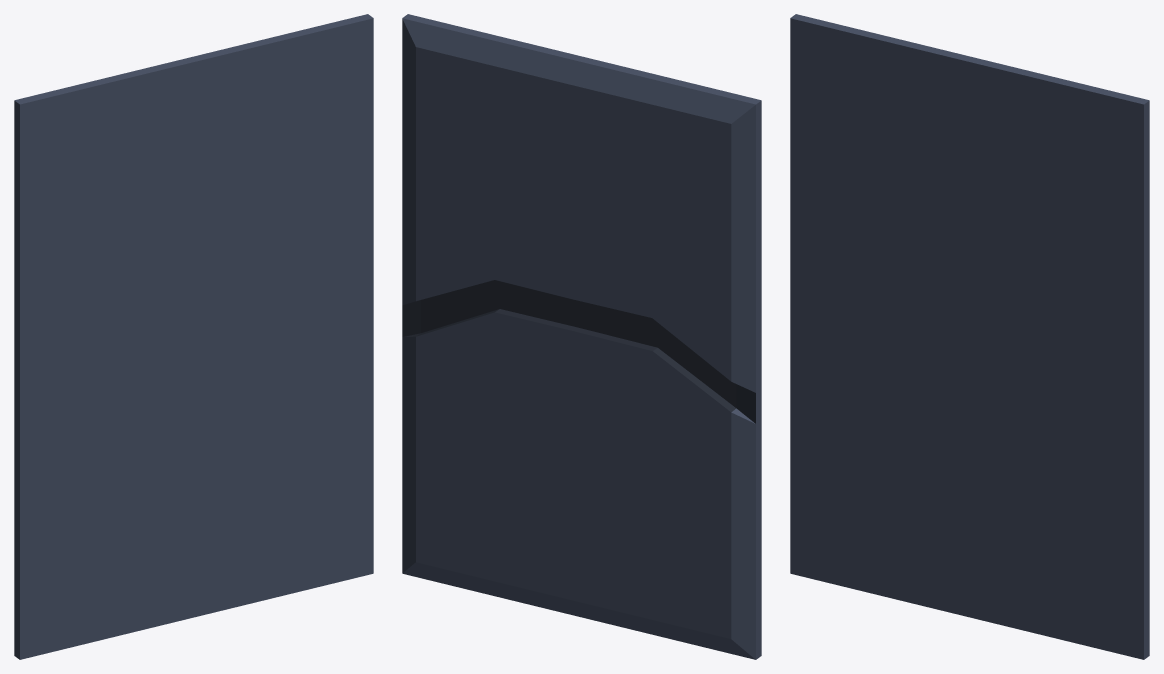
The model's file is wall-segment.fbx.
3 renders of one model, left to right at view 1: azimuth 30°, elevation 25°; view 2: azimuth 150°, elevation 25°; view 3: azimuth 330°, elevation 25°, orthographic.
Visible parts, largest first — view 1: Cube.007; view 2: Cube.007; view 3: Cube.007.
Boxes of the visible parts, x1,y1,x2,y2 form: Cube.007: (14,14,373,659); Cube.007: (402,14,761,659); Cube.007: (790,14,1149,659).
Bounding box in the file's own units: 11.04 × 300 × 200.
